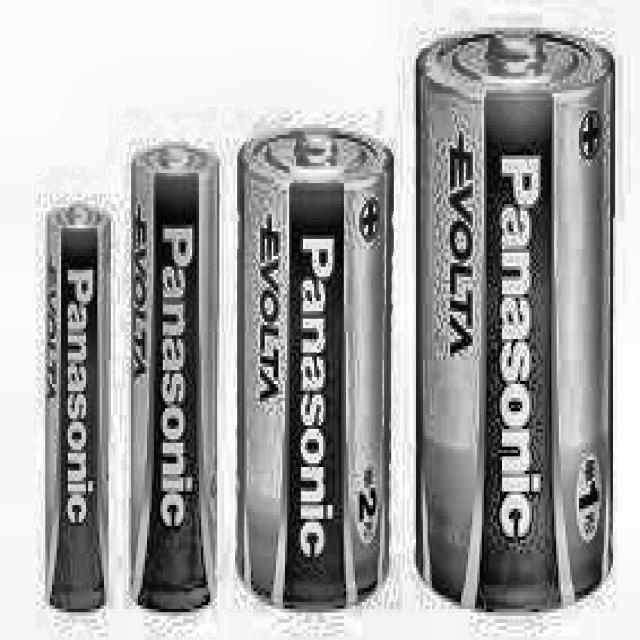drycell: (129, 141, 220, 618), (42, 199, 110, 624)
